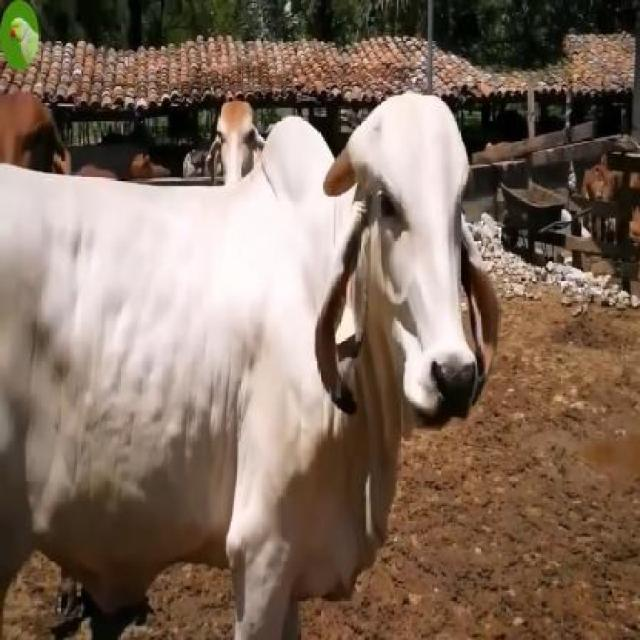Cow: (0, 94, 500, 638)
